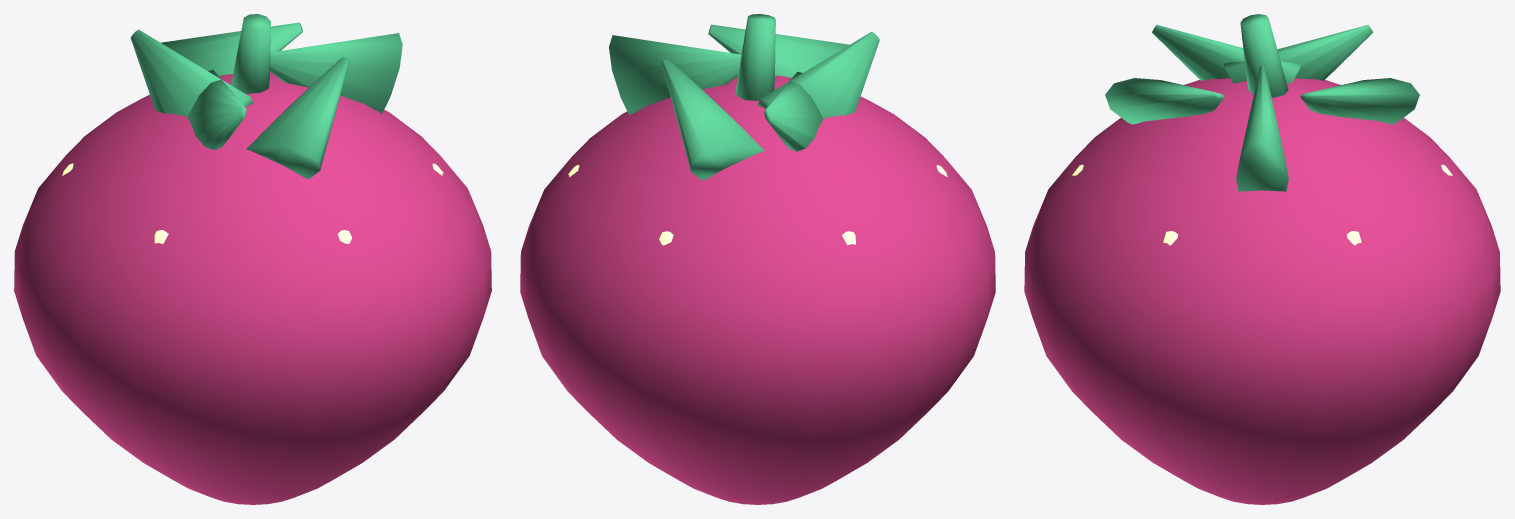
Rendered from Starberry.fbx.
The picture shows the model from 3 angles, left to right: view 1: azimuth 30°, elevation 25°; view 2: azimuth 150°, elevation 25°; view 3: azimuth 270°, elevation 25°; orthographic projection.
Parts seen in each view (by area): view 1: Starberry; view 2: Starberry; view 3: Starberry.
Part boxes in pixels (bbox=[...]): Starberry: bbox=[14, 14, 491, 504]; Starberry: bbox=[520, 14, 995, 504]; Starberry: bbox=[1024, 14, 1500, 504].
Size of the model in its own units: 73.02 by 73.02 by 80.84.
Materials: 1 (1 with a texture image).
